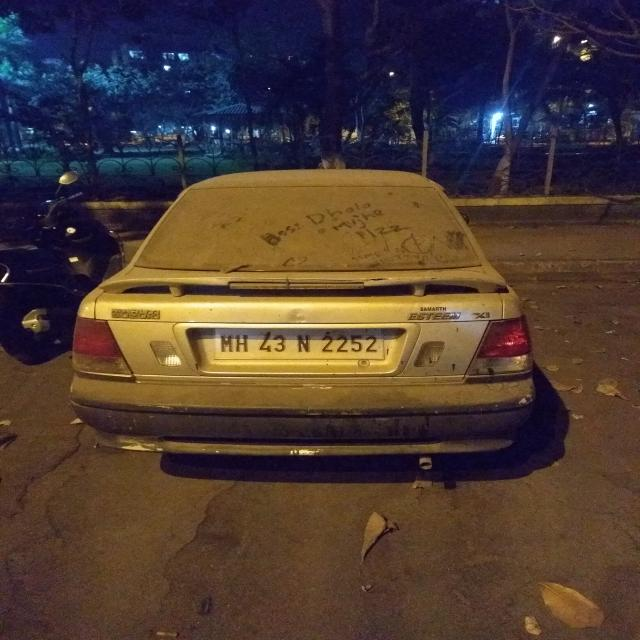Number-Plate: (213, 329, 396, 366)
